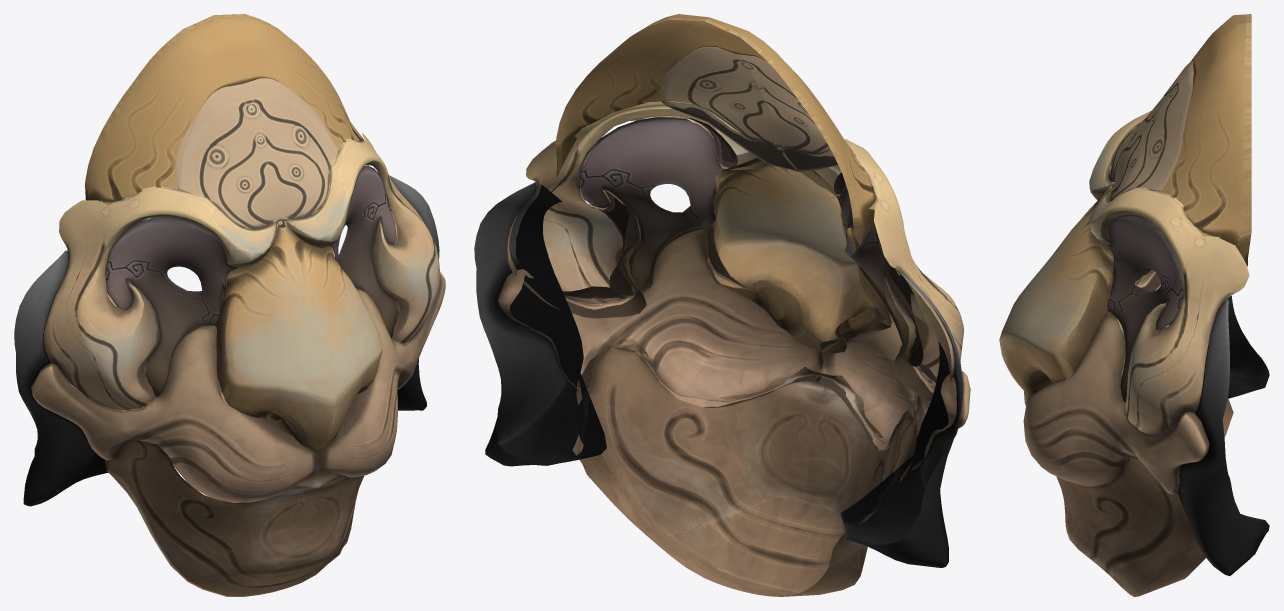
File: lion_mask_1.fbx
The picture shows the model from 3 angles, left to right: view 1: azimuth 30°, elevation 25°; view 2: azimuth 150°, elevation 25°; view 3: azimuth 270°, elevation 25°; orthographic projection. The views are drawn at different scales.
Visible parts, largest first — view 1: lion_mask_master; view 2: lion_mask_master; view 3: lion_mask_master.
Part boxes in pixels (box(x1,y1,x2,y2)): lion_mask_master: box(14, 14, 445, 596); lion_mask_master: box(474, 14, 970, 596); lion_mask_master: box(999, 14, 1269, 596).
Bounding box in the file's own units: 8.29 × 9.98 × 4.39.
